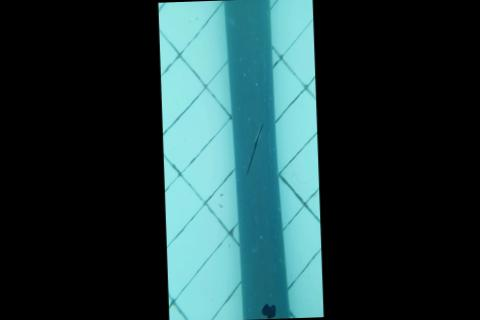kebocoran: (259, 302, 278, 319)
keretakan: (243, 122, 265, 175)
